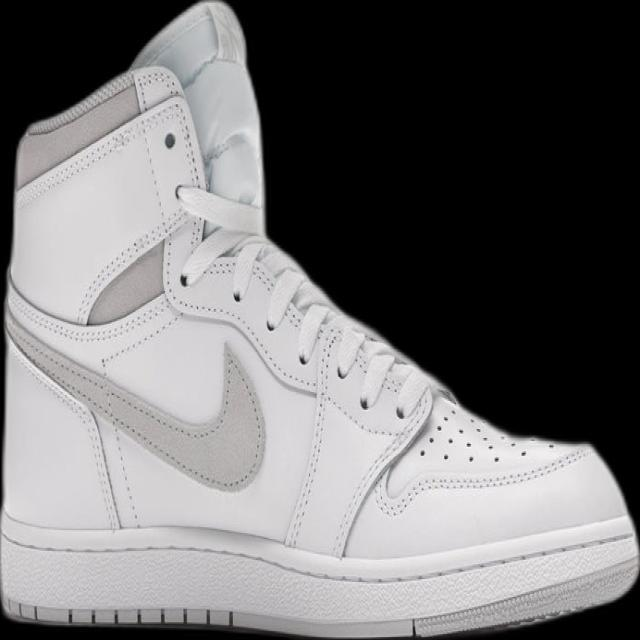J1_InsoleChar: (0, 0, 639, 639)
J1_StitchPattern: (178, 223, 586, 520), (0, 523, 638, 638), (3, 314, 264, 495), (226, 240, 402, 411), (5, 318, 142, 529), (372, 442, 592, 519), (280, 322, 336, 552), (2, 599, 238, 629), (419, 405, 520, 466)
